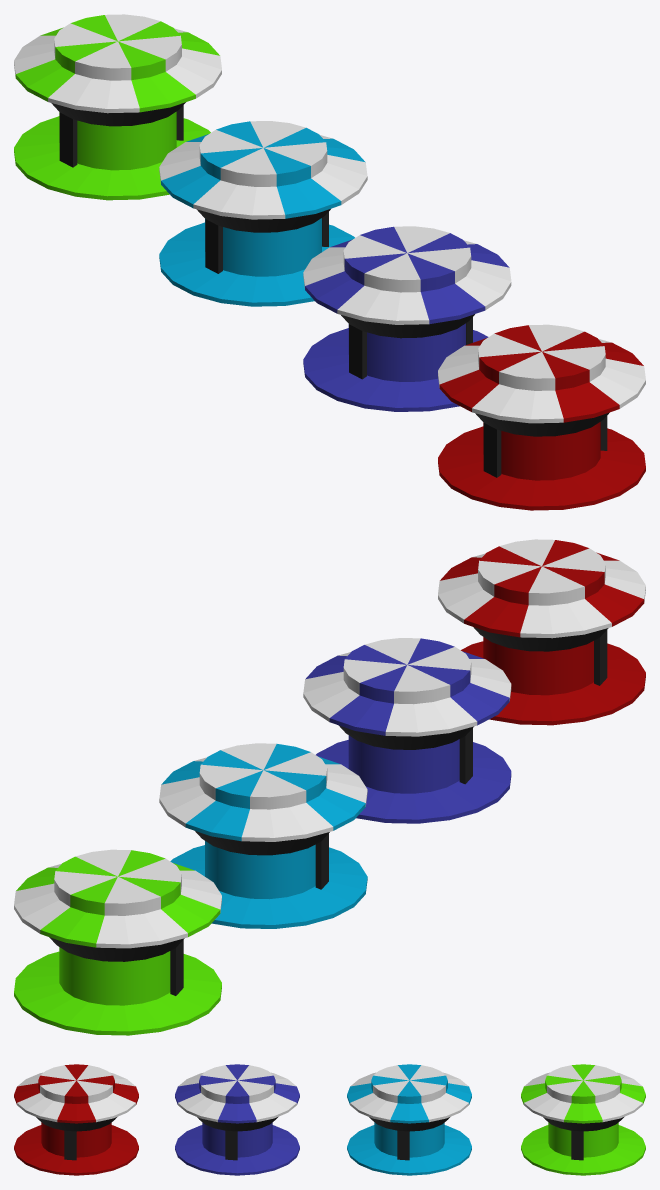
The model's file is PinballSets1.fbx.
The picture shows the model from 3 angles, top to bottom: view 1: azimuth 30°, elevation 25°; view 2: azimuth 150°, elevation 25°; view 3: azimuth 270°, elevation 25°; orthographic projection. The views are drawn at different scales.
Parts seen in each view (by area): view 1: bumperTop2, bumperTop3, bumperTop4, bumperTop1, bumperBot1, bumperBot4, bumperBot3, bumperBot2, bumper1, bumper4, bumper3, bumper2; view 2: bumperTop3, bumperTop2, bumperTop1, bumperTop4, bumperBot4, bumperBot3, bumperBot2, bumperBot1, bumper1, bumper3, bumper4, bumper2; view 3: bumperTop1, bumperTop2, bumperTop3, bumperTop4, bumperBot2, bumperBot3, bumperBot4, bumperBot1, bumper1, bumper3, bumper2, bumper4.
Boxes of the visible parts, x1,y1,x2,y2 form: bumperTop2: (303, 226, 511, 324); bumperTop3: (159, 121, 367, 219); bumperTop4: (14, 14, 221, 113); bumperTop1: (438, 324, 645, 423); bumperBot1: (438, 422, 645, 510); bumperBot4: (14, 111, 210, 200); bumperBot3: (159, 218, 354, 306); bumperBot2: (303, 323, 488, 411); bumper1: (475, 412, 609, 477); bumper4: (51, 102, 185, 167); bumper3: (197, 209, 330, 273); bumper2: (341, 314, 474, 379); bumperTop3: (159, 743, 367, 841); bumperTop2: (303, 638, 511, 736); bumperTop1: (438, 539, 645, 638); bumperTop4: (14, 849, 221, 948); bumperBot4: (14, 947, 221, 1035); bumperBot3: (170, 841, 367, 928); bumperBot2: (316, 735, 511, 823); bumperBot1: (461, 637, 645, 725); bumper1: (473, 627, 608, 685); bumper3: (195, 831, 329, 889); bumper4: (49, 937, 184, 995); bumper2: (339, 725, 473, 784); bumperTop1: (14, 1064, 138, 1123); bumperTop2: (175, 1064, 299, 1123); bumperTop3: (347, 1064, 471, 1123); bumperTop4: (521, 1064, 645, 1123); bumperBot2: (175, 1122, 299, 1175); bumperBot3: (347, 1122, 471, 1175); bumperBot4: (521, 1122, 645, 1175); bumperBot1: (14, 1122, 138, 1175); bumper1: (36, 1117, 116, 1160); bumper3: (369, 1117, 449, 1160); bumper2: (197, 1117, 277, 1160); bumper4: (543, 1117, 623, 1160).
Bounding box in the file's own units: 4.67 × 2.83 × 23.59.
